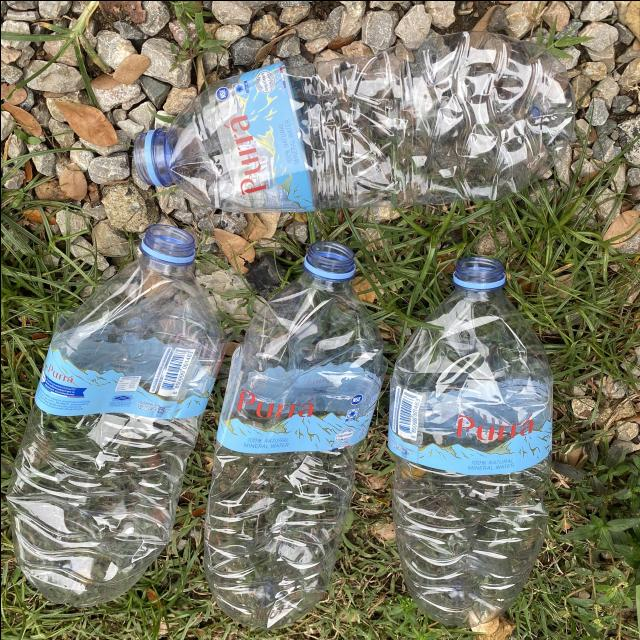plastik: (5, 224, 224, 605), (132, 30, 574, 210), (203, 241, 385, 626), (387, 256, 551, 626)
